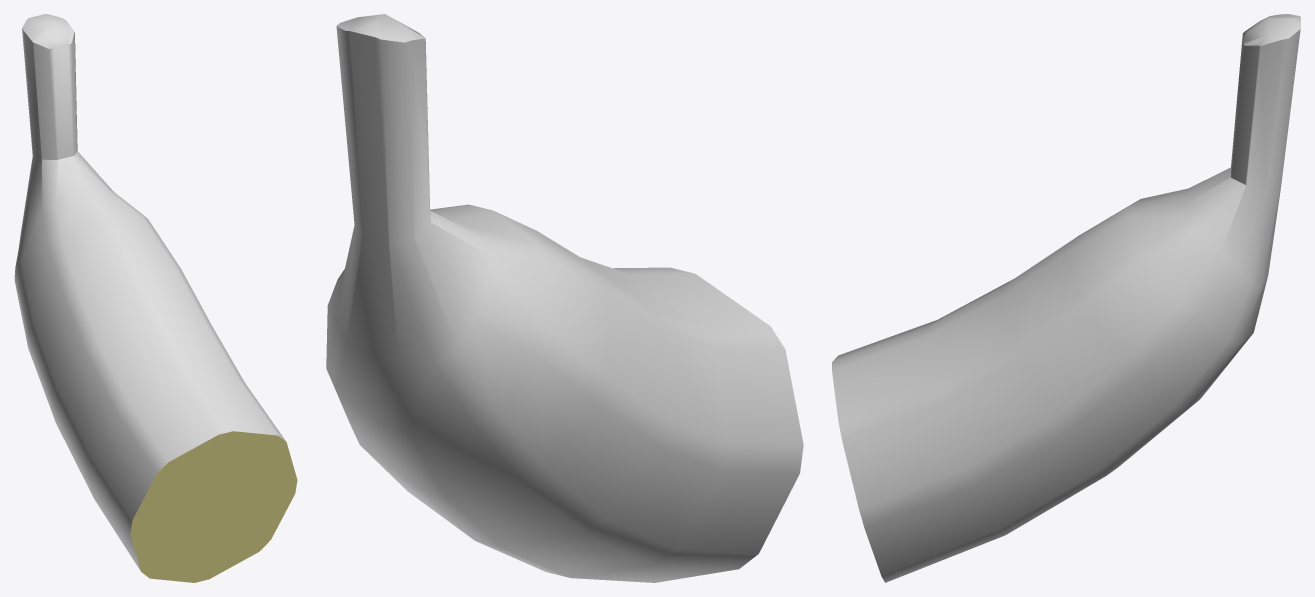
The model's file is banana-semi.fbx.
3 views of the same model, side by side, from view 1: azimuth 30°, elevation 25°; view 2: azimuth 150°, elevation 25°; view 3: azimuth 270°, elevation 25° (orthographic). The views are drawn at different scales.
Visible parts, largest first — view 1: Banana-semi.001; view 2: Banana-semi.001; view 3: Banana-semi.001.
Part boxes in pixels (box(x1,y1,x2,y2)): Banana-semi.001: box(14, 14, 297, 582); Banana-semi.001: box(326, 14, 803, 582); Banana-semi.001: box(832, 14, 1300, 582).
Bounding box in the file's own units: 188 × 485 × 372.
